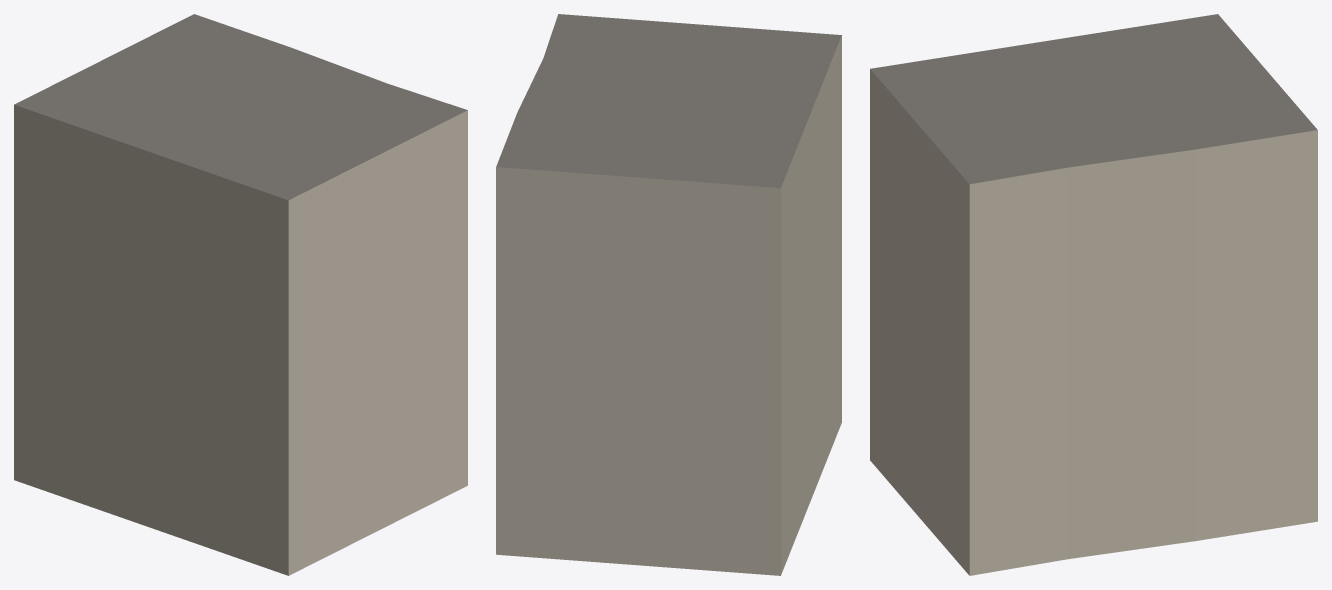
3 views of the same model, side by side, from view 1: azimuth 30°, elevation 25°; view 2: azimuth 150°, elevation 25°; view 3: azimuth 270°, elevation 25° (orthographic). The views are drawn at different scales.
Visible parts, largest first — view 1: HP-w414733137; view 2: HP-w414733137; view 3: HP-w414733137.
Part boxes in pixels (x1,y1,x2,y2): HP-w414733137: (14,14,467,575); HP-w414733137: (496,14,841,575); HP-w414733137: (870,14,1317,575).
Size of the model in its own units: 16.79 by 18 by 18.65.
